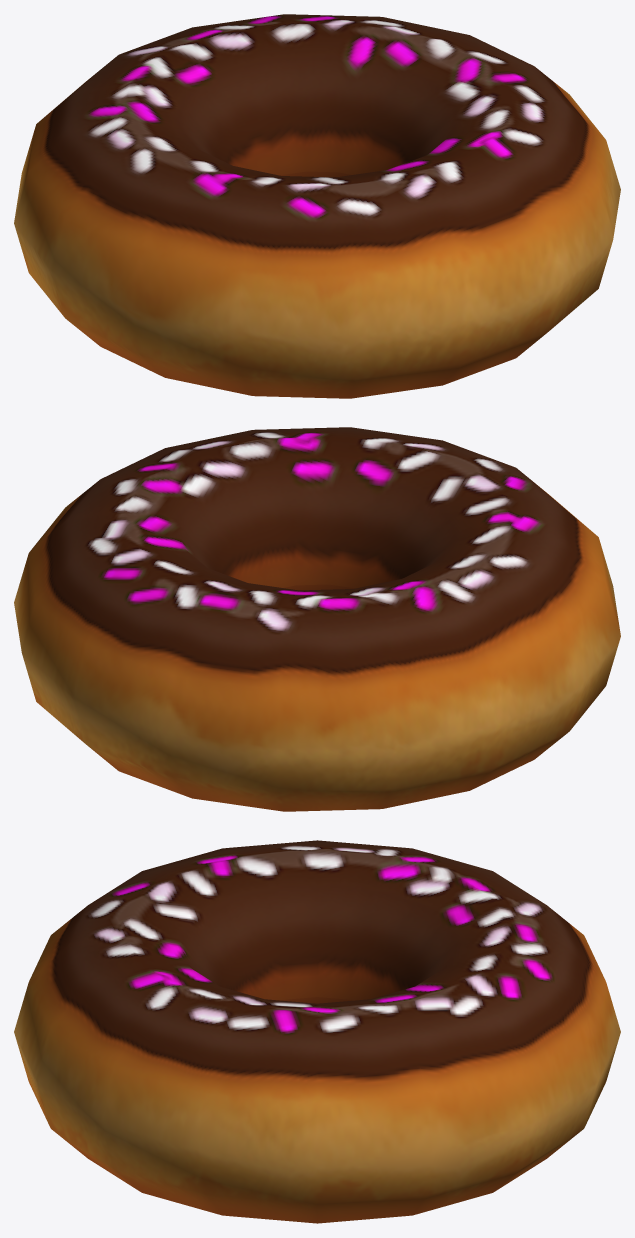
Rendered from 007-Donut_03.FBX.
3 views of the same model, one above another, from view 1: azimuth 30°, elevation 25°; view 2: azimuth 150°, elevation 25°; view 3: azimuth 270°, elevation 25° (orthographic).
Parts seen in each view (by area): view 1: 007-Donut_03; view 2: 007-Donut_03; view 3: 007-Donut_03.
Boxes of the visible parts, bbox=[...] form: 007-Donut_03: bbox=[14, 14, 620, 398]; 007-Donut_03: bbox=[14, 427, 620, 811]; 007-Donut_03: bbox=[14, 840, 620, 1223].
Bounding box in the file's own units: 15.88 × 5.77 × 15.88.
